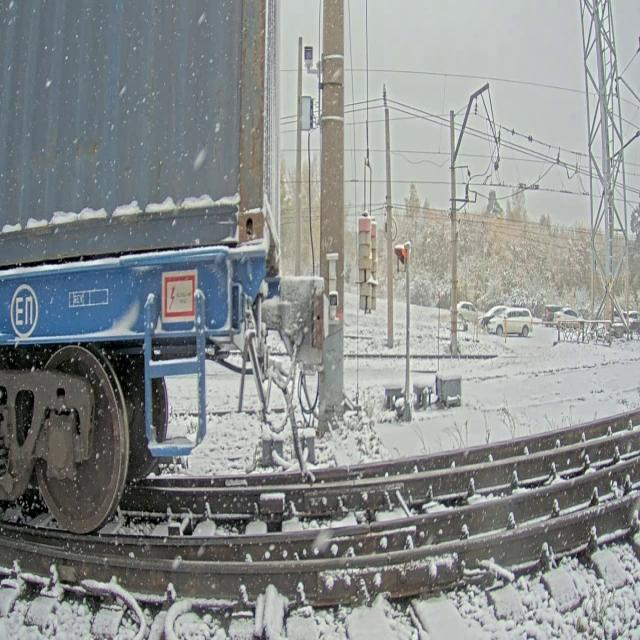container: (0, 0, 283, 260)
flatcar: (0, 242, 342, 558)
